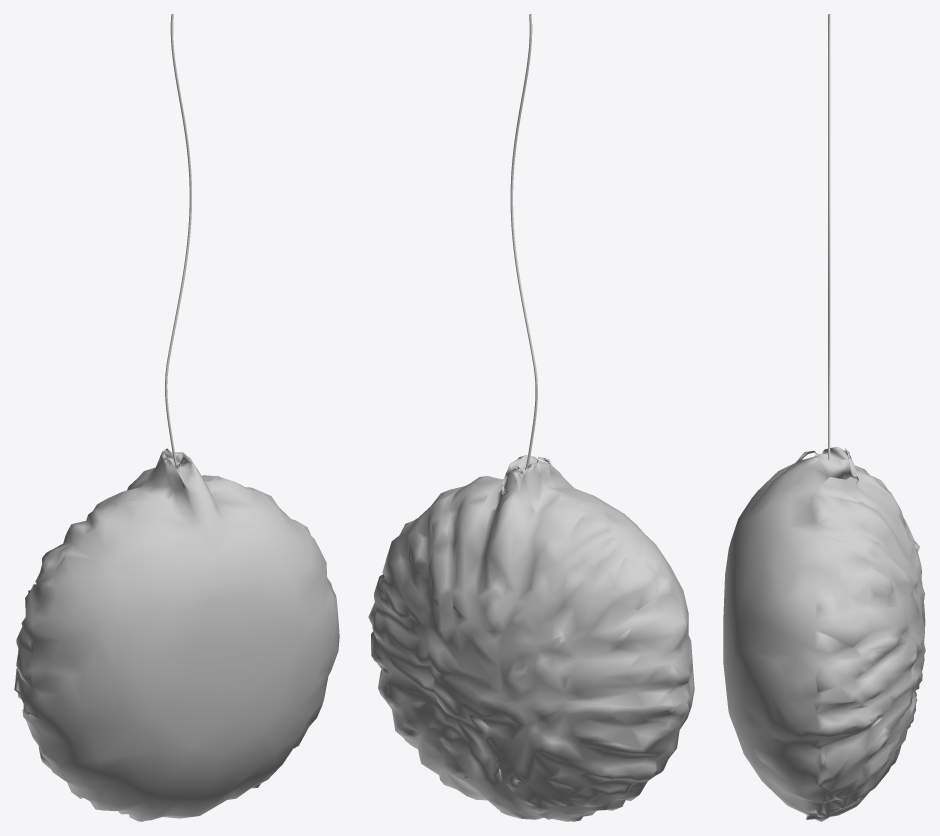
Rendered from Balloon_Foil.fbx.
3 views of the same model, side by side, from view 1: azimuth 30°, elevation 25°; view 2: azimuth 150°, elevation 25°; view 3: azimuth 270°, elevation 25° (orthographic). The views are drawn at different scales.
Parts seen in each view (by area): view 1: Foil Balloon; view 2: Foil Balloon; view 3: Foil Balloon.
Part boxes in pixels (x1=…): Foil Balloon: x1=14, y1=14, x2=339, y2=821; Foil Balloon: x1=368, y1=14, x2=694, y2=821; Foil Balloon: x1=723, y1=14, x2=925, y2=821.
Size of the model in its own units: 0.3851 by 0.9445 by 0.2219.
